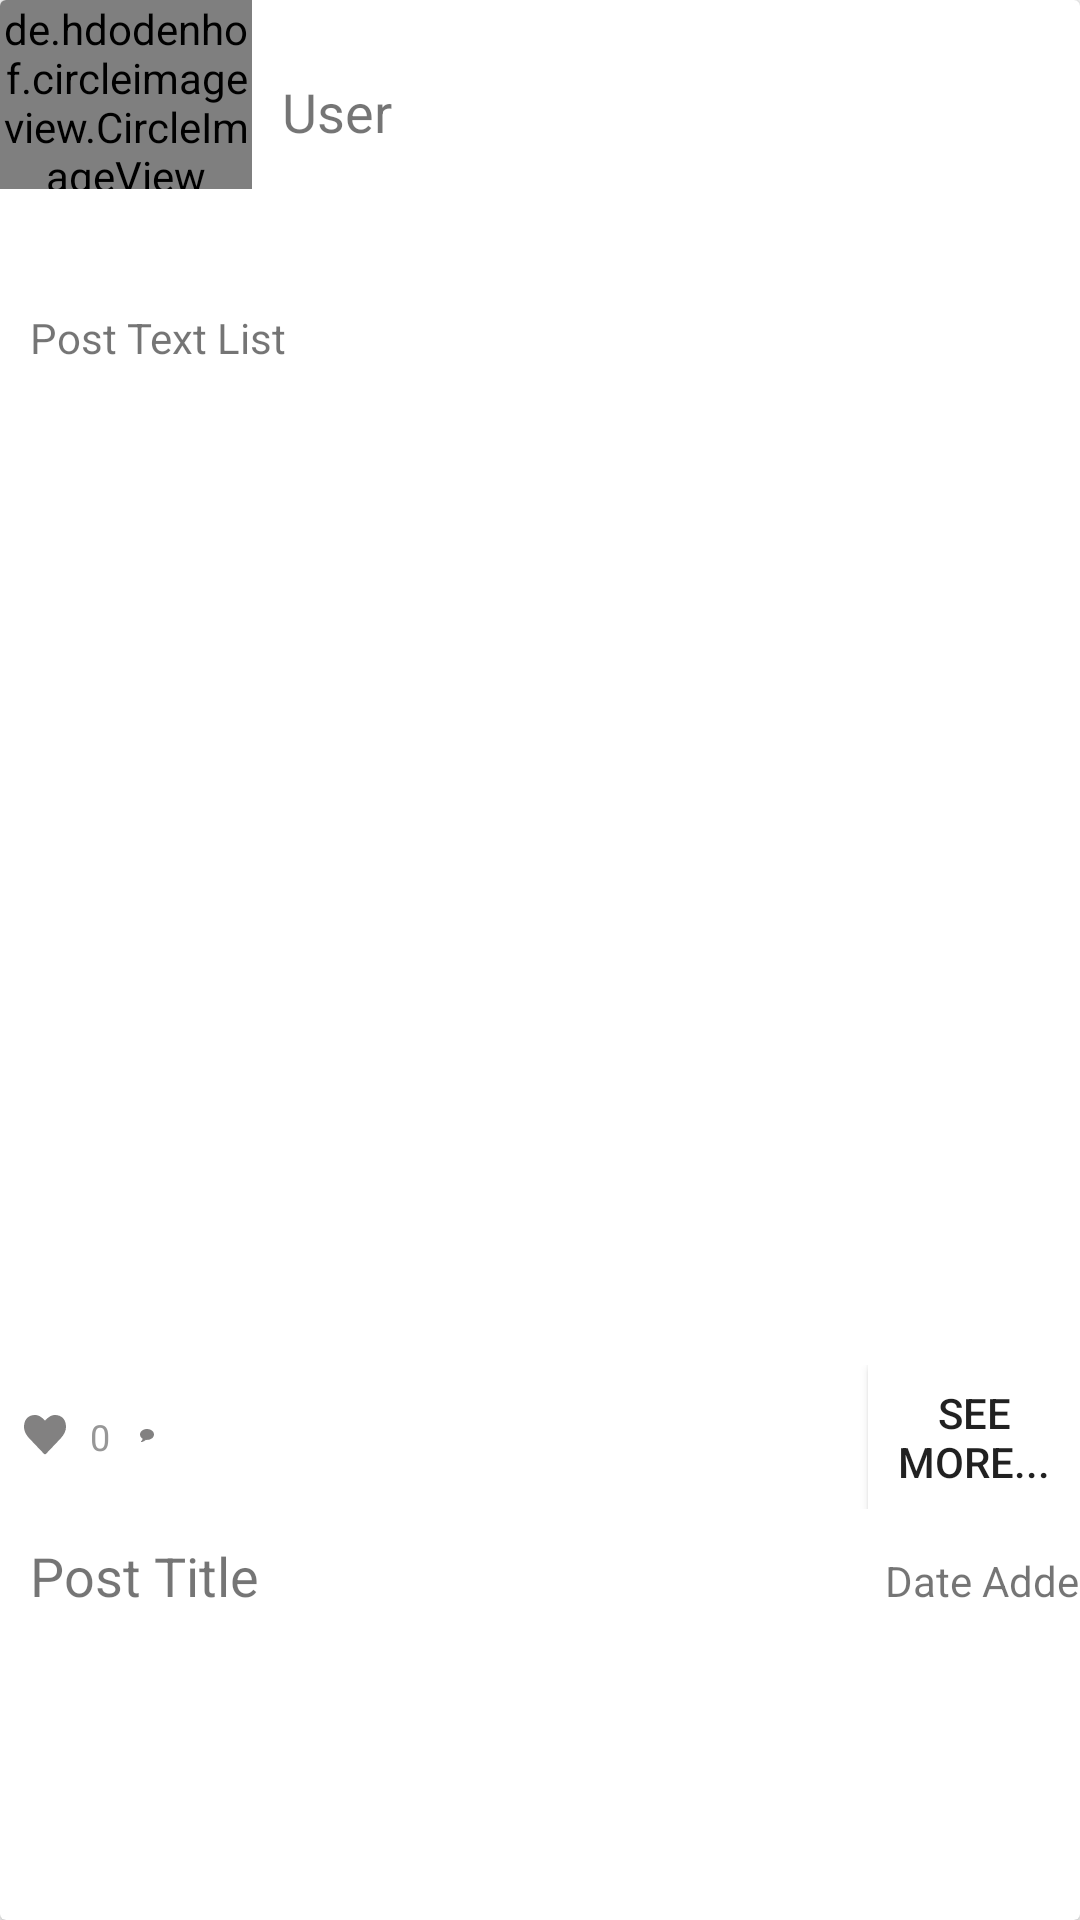

Locate icon controls on the screen. Image size 1080px×1920px, boxes as [left=x1, top=y1, right=x2, bottom=y2].
like: [left=24, top=1415, right=66, bottom=1454]
